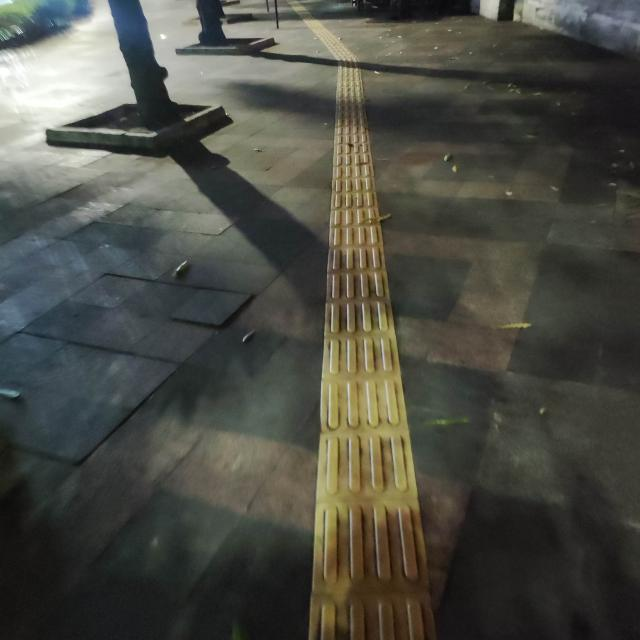lurus: (310, 81, 435, 640)
